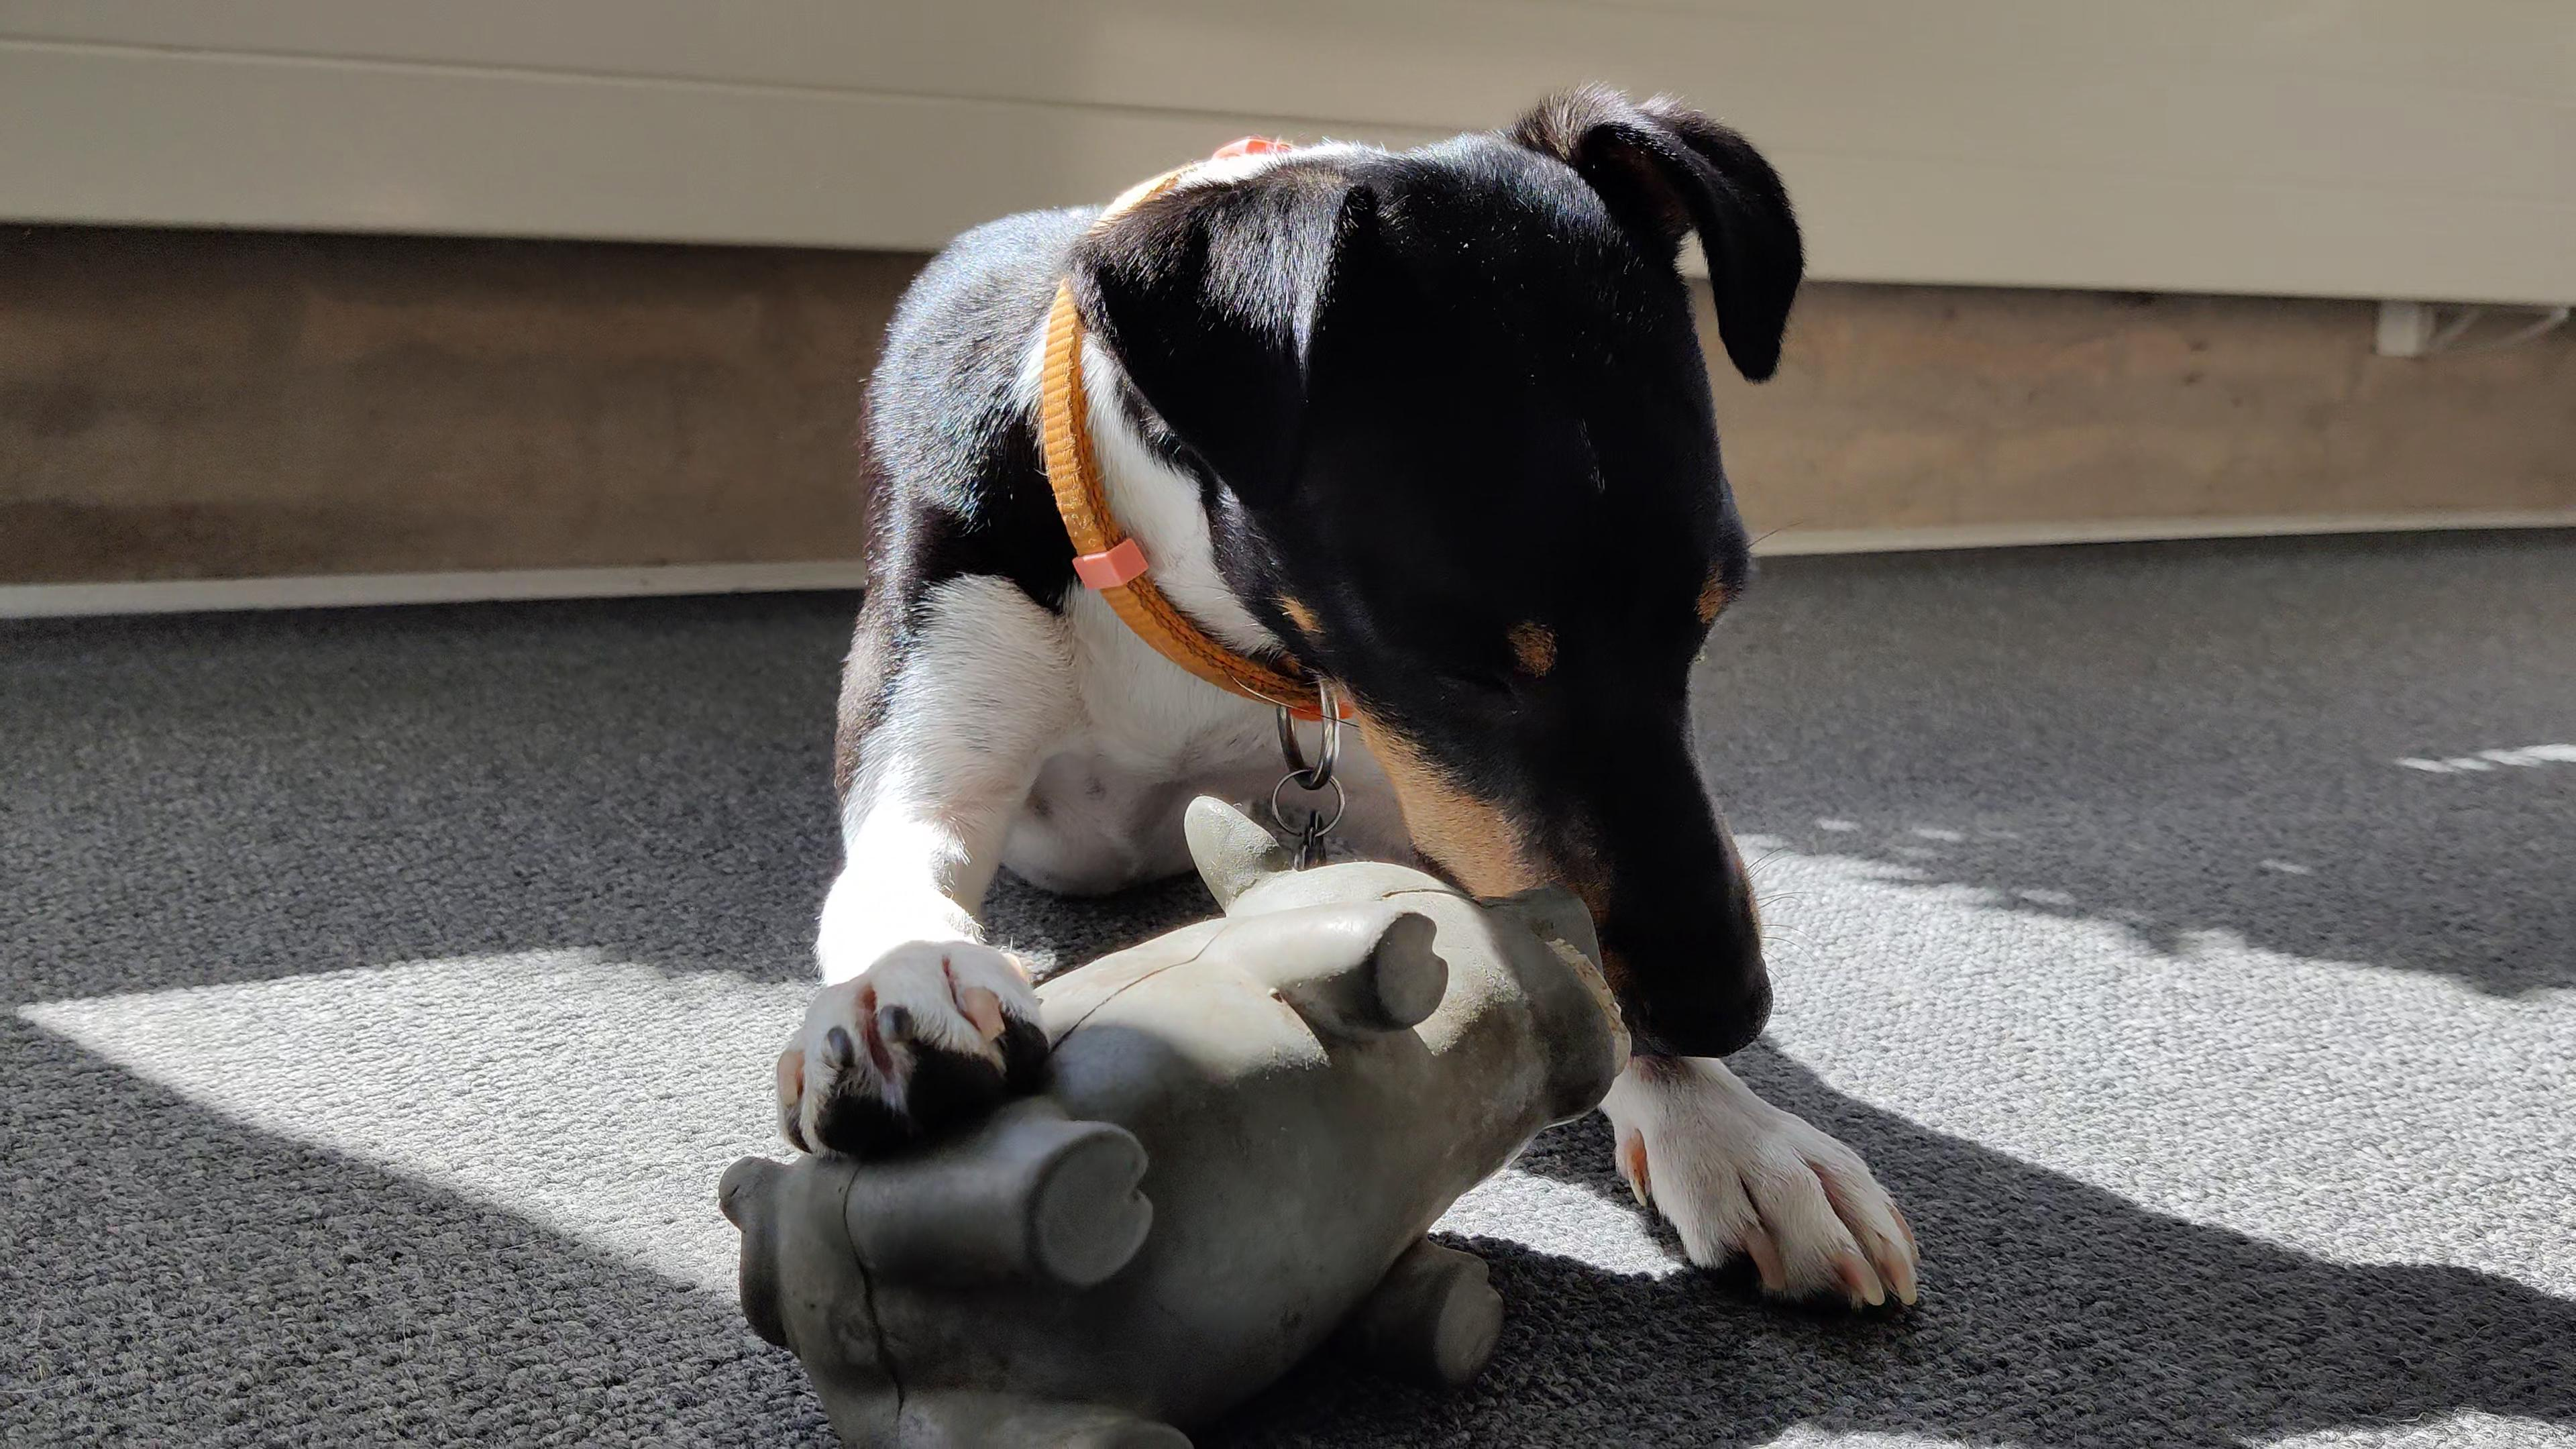Dog: (736, 64, 1953, 1318)
